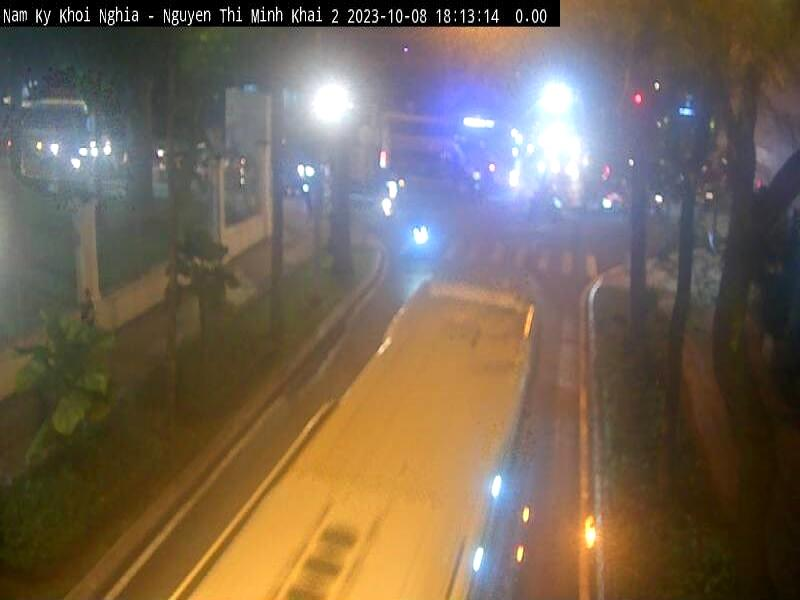bus: (165, 272, 541, 600)
